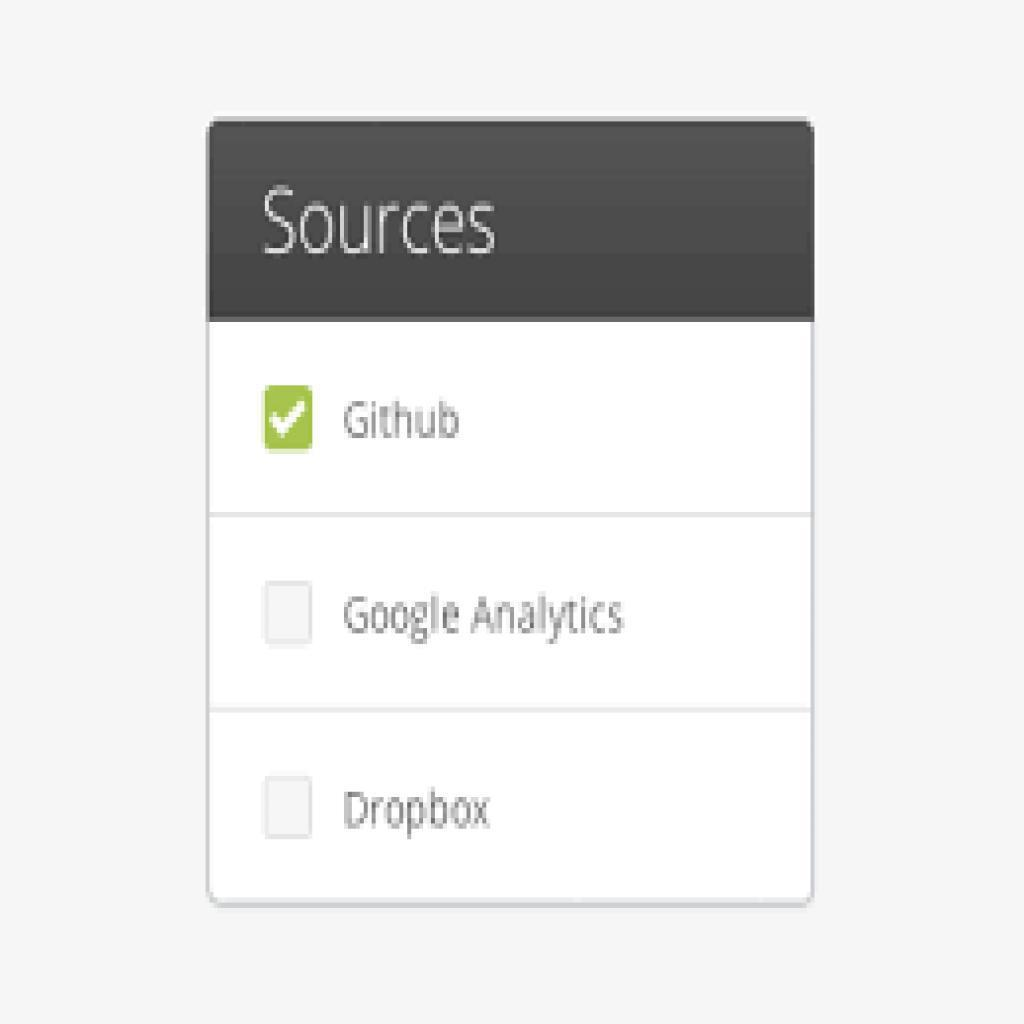checkbox: (262, 582, 315, 648), (266, 385, 315, 454), (264, 777, 313, 840)
label: (341, 591, 627, 646), (341, 784, 492, 842), (337, 395, 469, 448)
